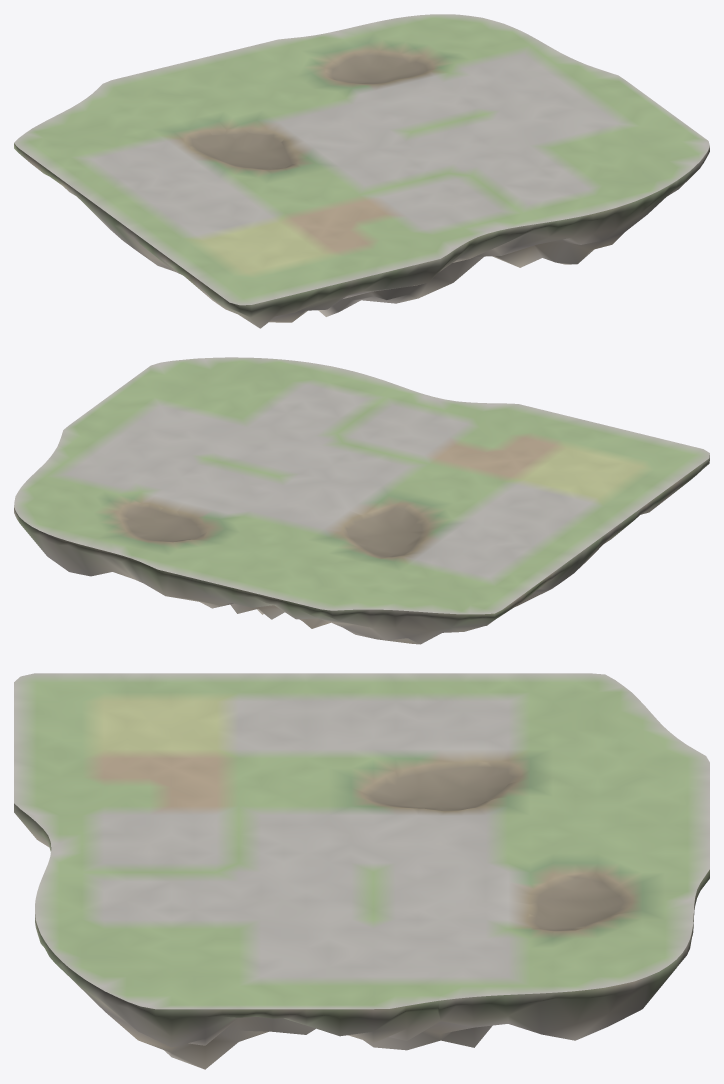
The model's file is SKY-003.rock.glb.
3 views of the same model, one above another, from view 1: azimuth 30°, elevation 25°; view 2: azimuth 150°, elevation 25°; view 3: azimuth 270°, elevation 25° (orthographic). The views are drawn at different scales.
Parts seen in each view (by area): view 1: deck-col, rock; view 2: deck-col, rock; view 3: deck-col, rock.
Boxes of the visible parts, x1,y1,x2,y2 form: deck-col: [14, 14, 709, 305]; rock: [14, 143, 709, 328]; deck-col: [14, 357, 709, 614]; rock: [14, 455, 709, 644]; deck-col: [14, 673, 709, 1009]; rock: [14, 803, 709, 1069].
Bounding box in the file's own units: 142 × 35.9 × 124.
